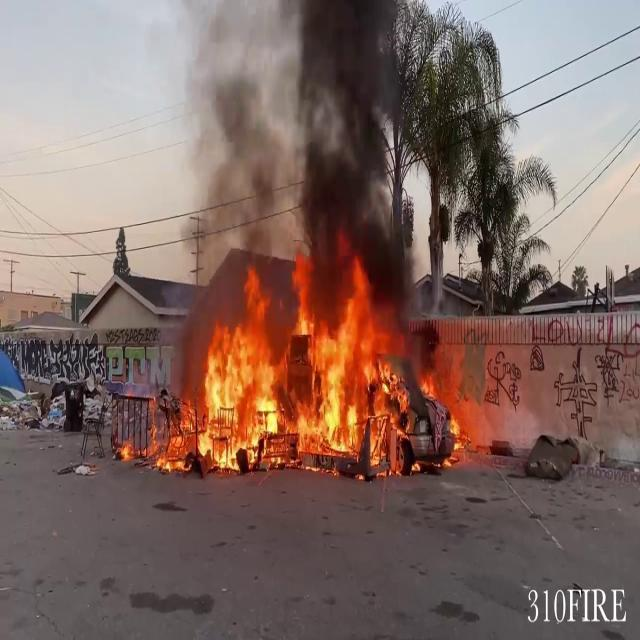Fire: (167, 260, 411, 476)
Smoke: (172, 1, 418, 303)
